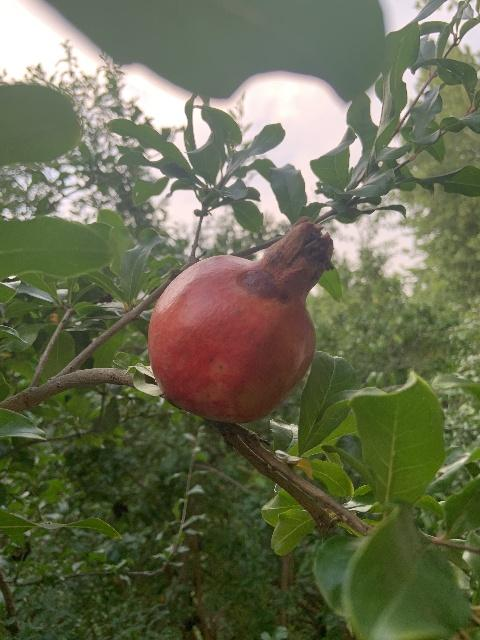ripe: (147, 216, 334, 423)
